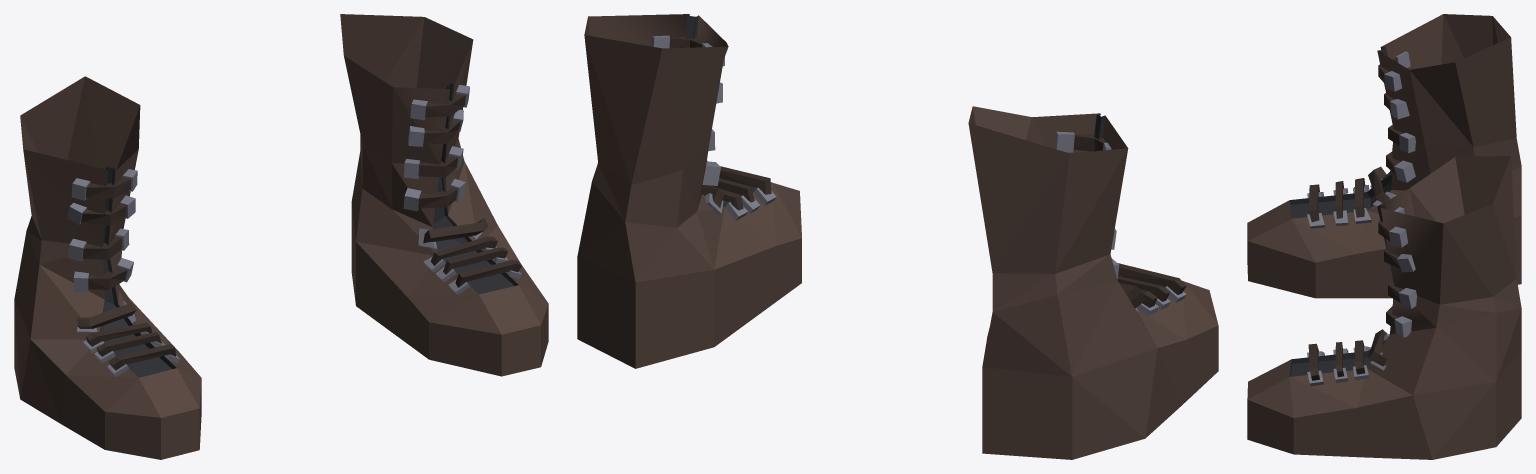
Rendered from MageFeet.dae.
3 views of the same model, side by side, from view 1: azimuth 30°, elevation 25°; view 2: azimuth 150°, elevation 25°; view 3: azimuth 270°, elevation 25° (orthographic). The views are drawn at different scales.
Parts seen in each view (by area): view 1: Feet; view 2: Feet; view 3: Feet.
Boxes of the visible parts, bbox=[...] form: Feet: bbox=[14, 14, 548, 459]; Feet: bbox=[577, 14, 1218, 459]; Feet: bbox=[1247, 14, 1521, 459].
Size of the model in its own units: 2.62 by 1.4 by 1.43.
